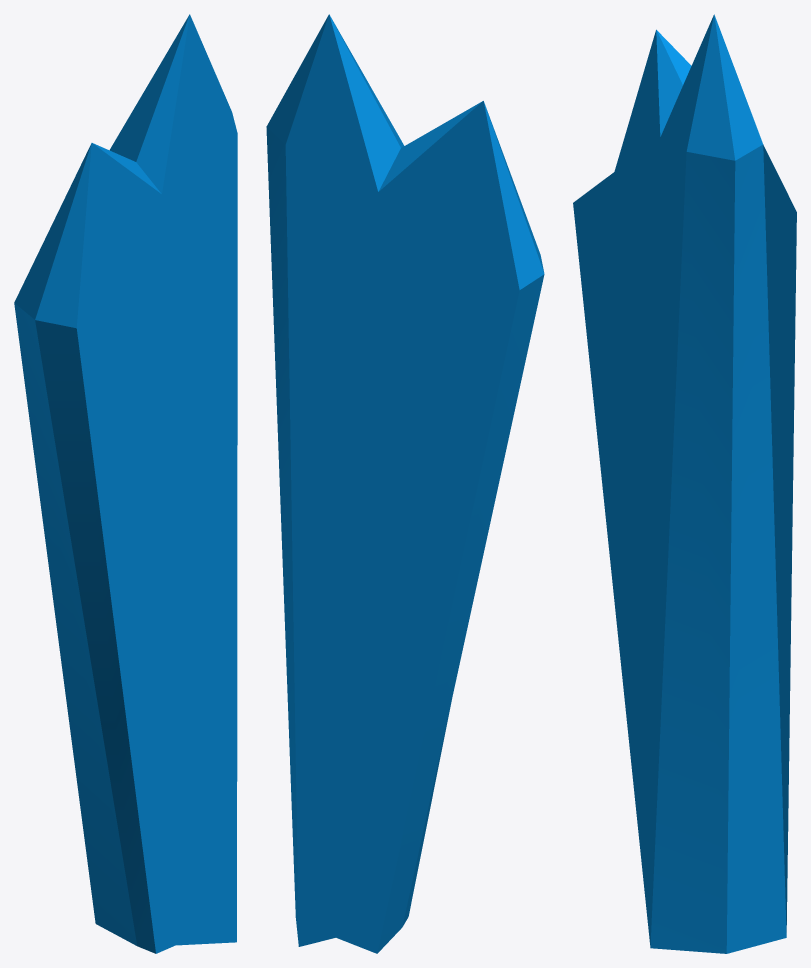
File: Big_Crystal_6_LOD.fbx
3 renders of one model, left to right at view 1: azimuth 30°, elevation 25°; view 2: azimuth 150°, elevation 25°; view 3: azimuth 270°, elevation 25°, orthographic. The views are drawn at different scales.
Parts seen in each view (by area): view 1: pCube71; view 2: pCube71; view 3: pCube71.
Boxes of the visible parts, x1,y1,x2,y2 form: pCube71: [14, 14, 237, 953]; pCube71: [266, 14, 544, 953]; pCube71: [573, 14, 796, 953].
Bounding box in the file's own units: 4.45 × 16.24 × 3.56.
